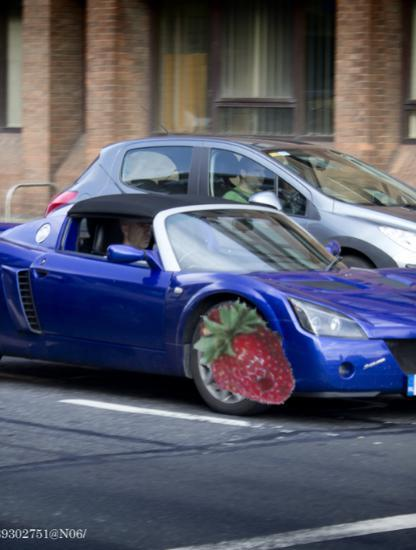Strawberry: (185, 295, 308, 418)
